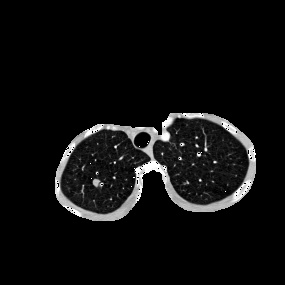PN: (92, 179, 100, 187)
